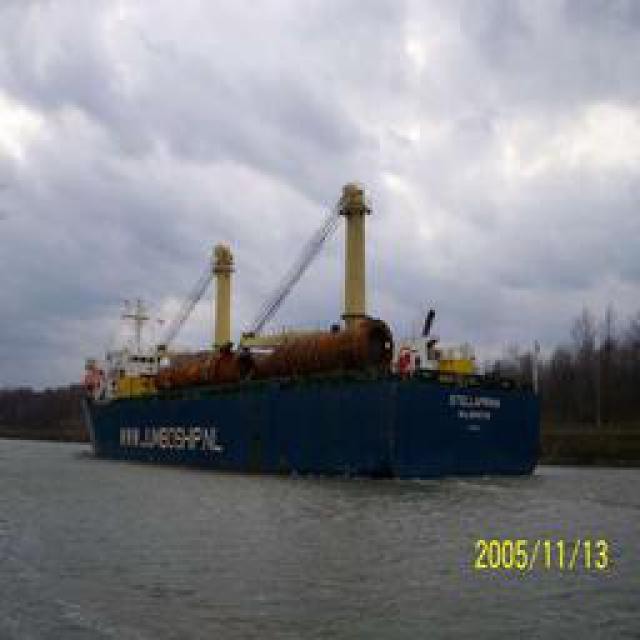Ship: (75, 192, 533, 485)
